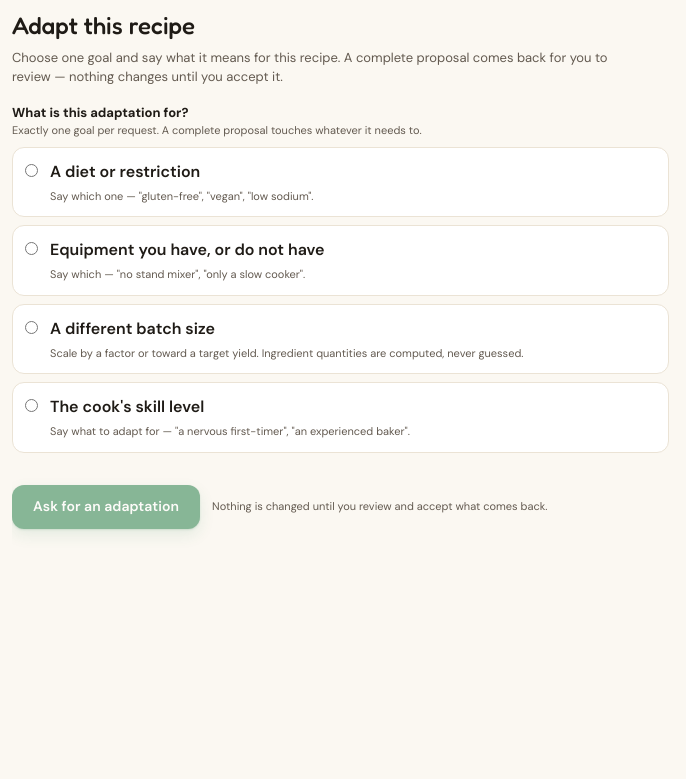
Scenario: RecipeAdaptationRequestComponent › offers no free-text requirement for the yield goal
This screenshot has width=686, height=779.
Click the radio button named "cp-adaptation-goal" at (32, 327), box [25,321,38,334]
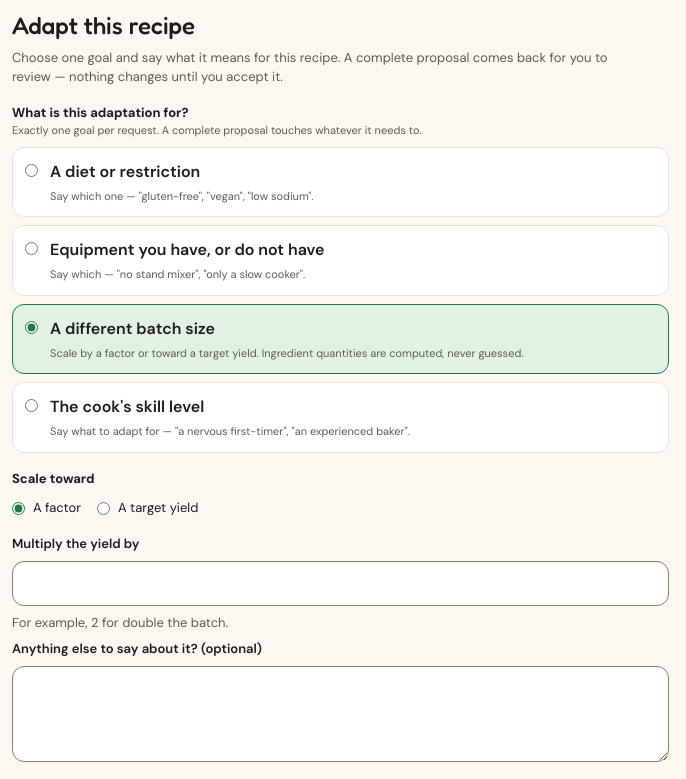
Now the number field with id "cp-adaptation-yield-value" is shown, box [12,561,669,606]
